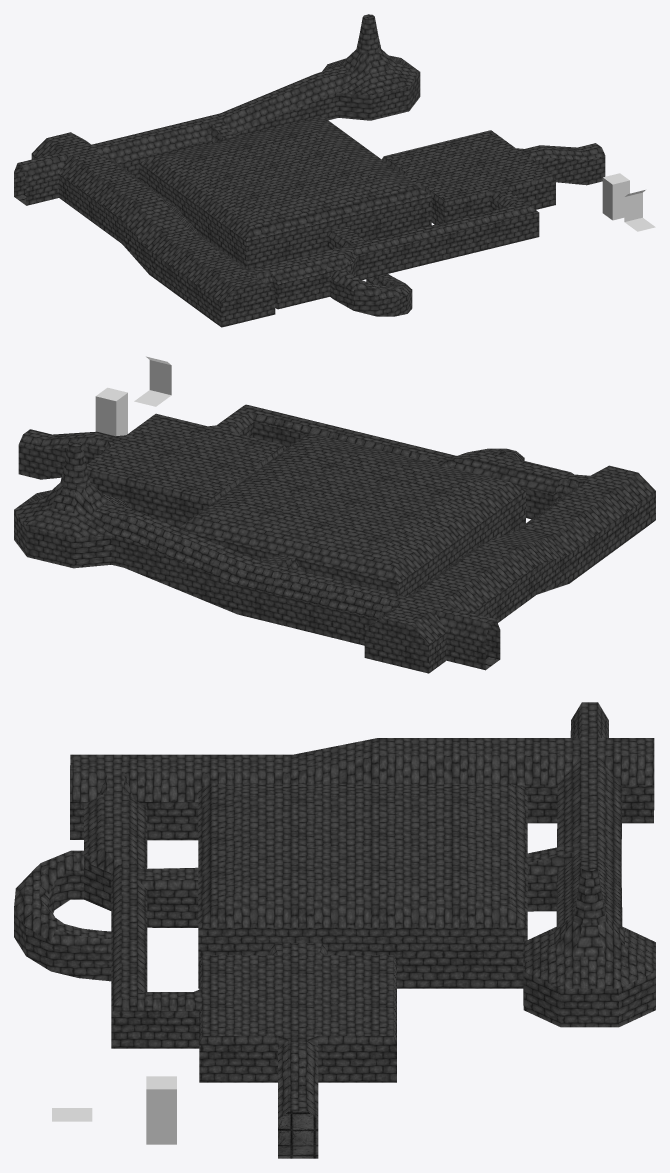
File: dungeontex.glb
3 renders of one model, top to bottom at view 1: azimuth 30°, elevation 25°; view 2: azimuth 150°, elevation 25°; view 3: azimuth 270°, elevation 25°, orthographic. The views are drawn at different scales.
Parts seen in each view (by area): view 1: Plane, Cube.001, Plane.001; view 2: Plane, Cube.001, Plane.001; view 3: Plane, Cube.001.
Boxes of the visible parts, x1,y1,x2,y2 form: Plane: [14, 14, 605, 327]; Cube.001: [602, 173, 629, 220]; Plane.001: [624, 190, 655, 231]; Plane: [14, 404, 655, 673]; Cube.001: [95, 387, 127, 436]; Plane.001: [134, 356, 171, 406]; Plane: [14, 702, 655, 1158]; Cube.001: [146, 1076, 176, 1144].
Bounding box in the file's own units: 39.39 × 10.72 × 29.36.
Materials: 2 (2 with a texture image).
